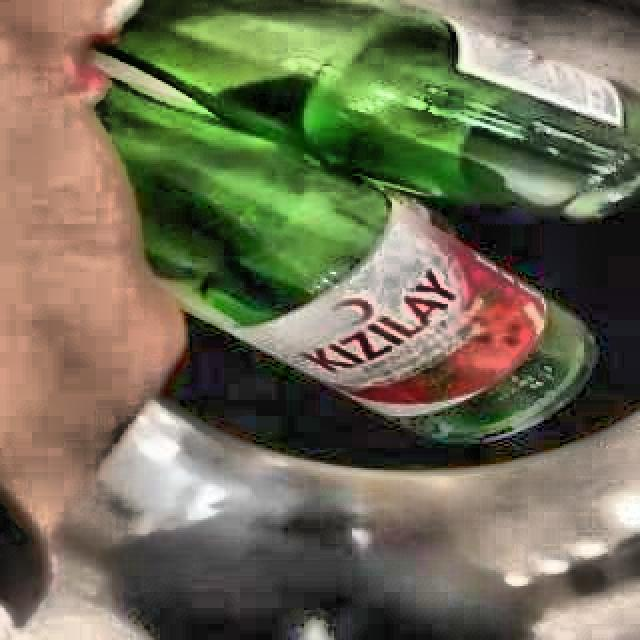glass: (93, 0, 640, 438)
